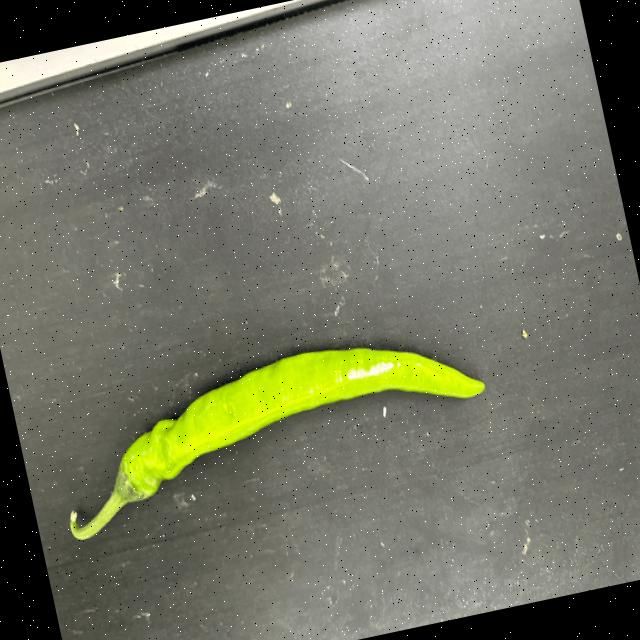chili: (109, 344, 484, 504)
